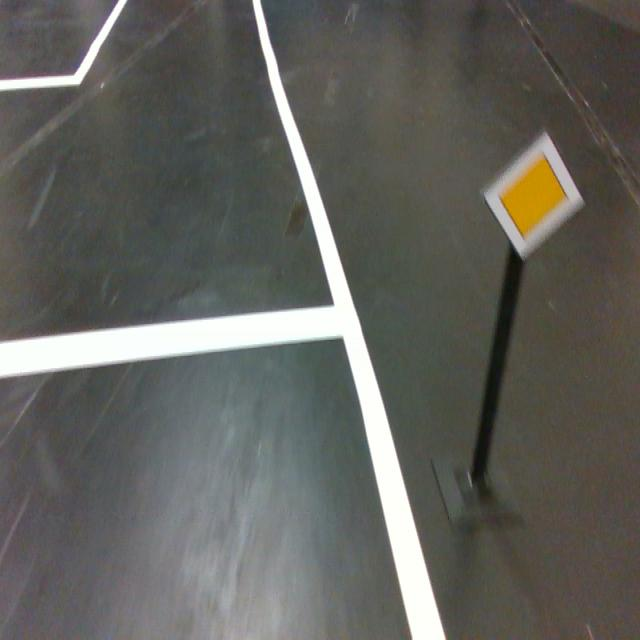priority-sign: (482, 129, 586, 263)
